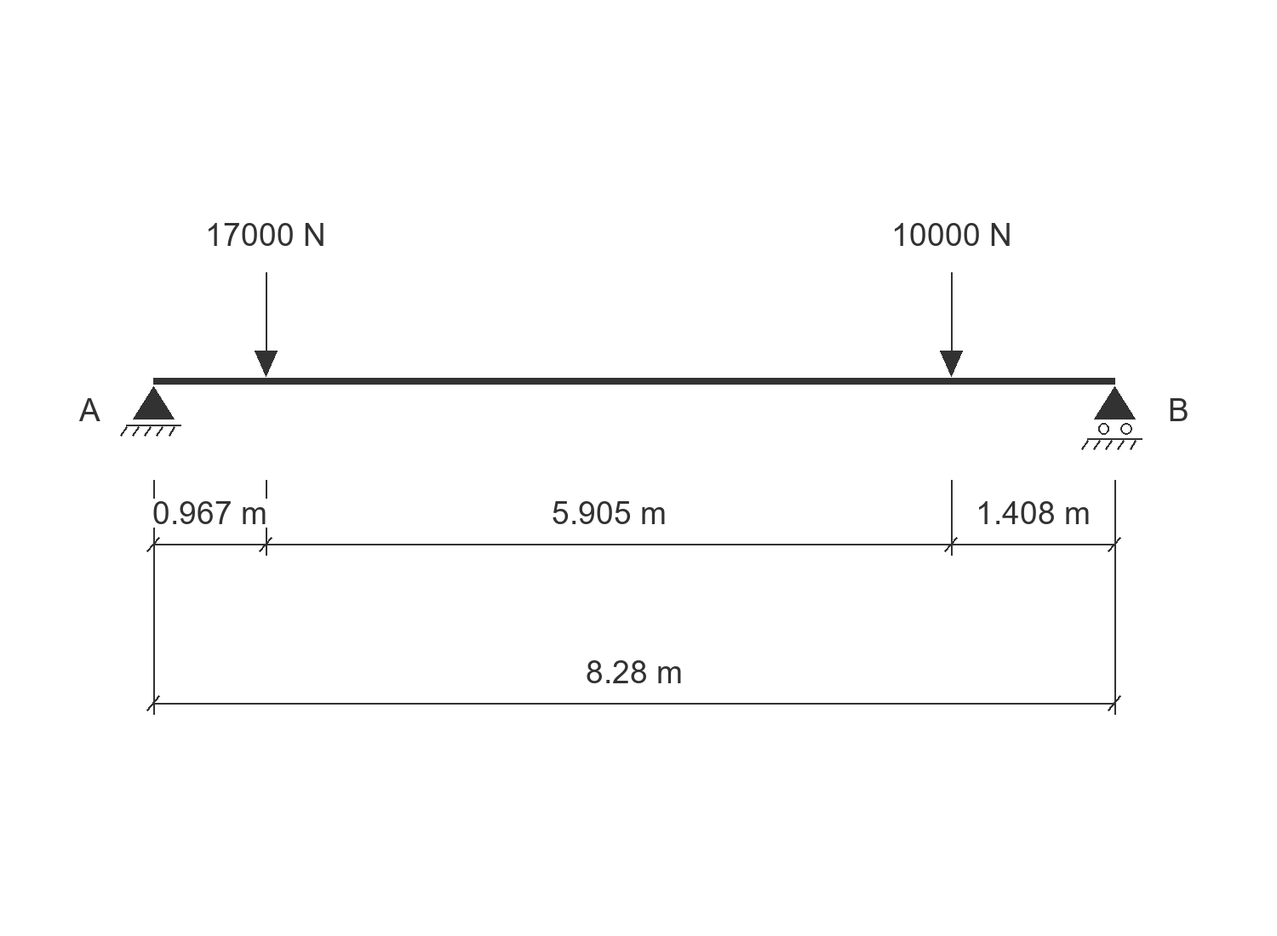pin_support: (120, 386, 181, 437)
point_load: (255, 272, 278, 377), (940, 272, 963, 377)
roller_support: (1081, 386, 1142, 450)
